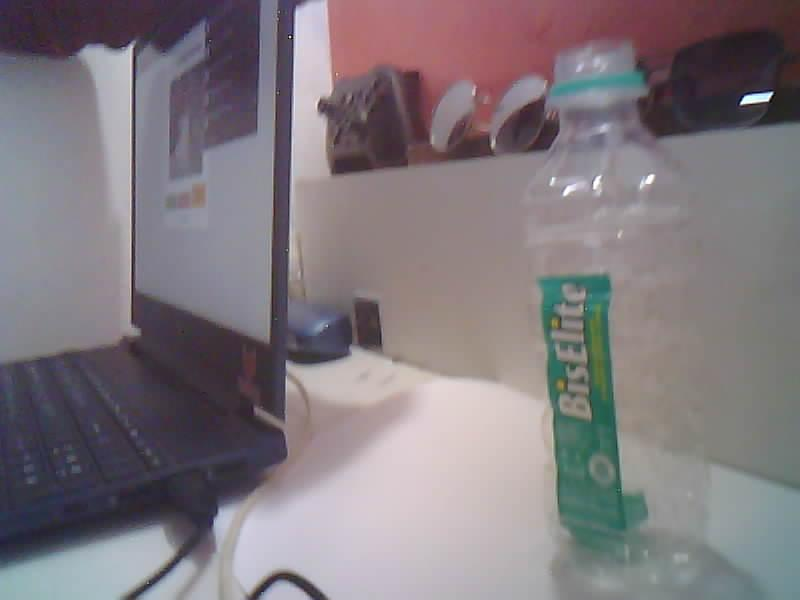non-biodegradable: (523, 41, 712, 593)
